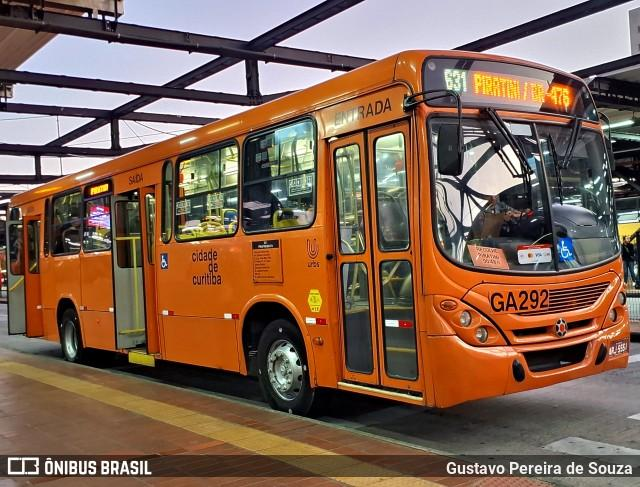PIRATINI: (469, 70, 525, 110)
